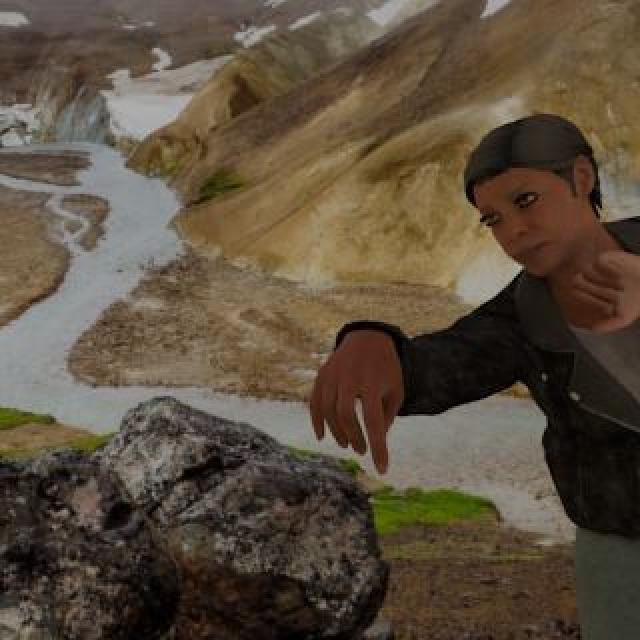not-gloved: (305, 330, 416, 486), (549, 243, 640, 340)
